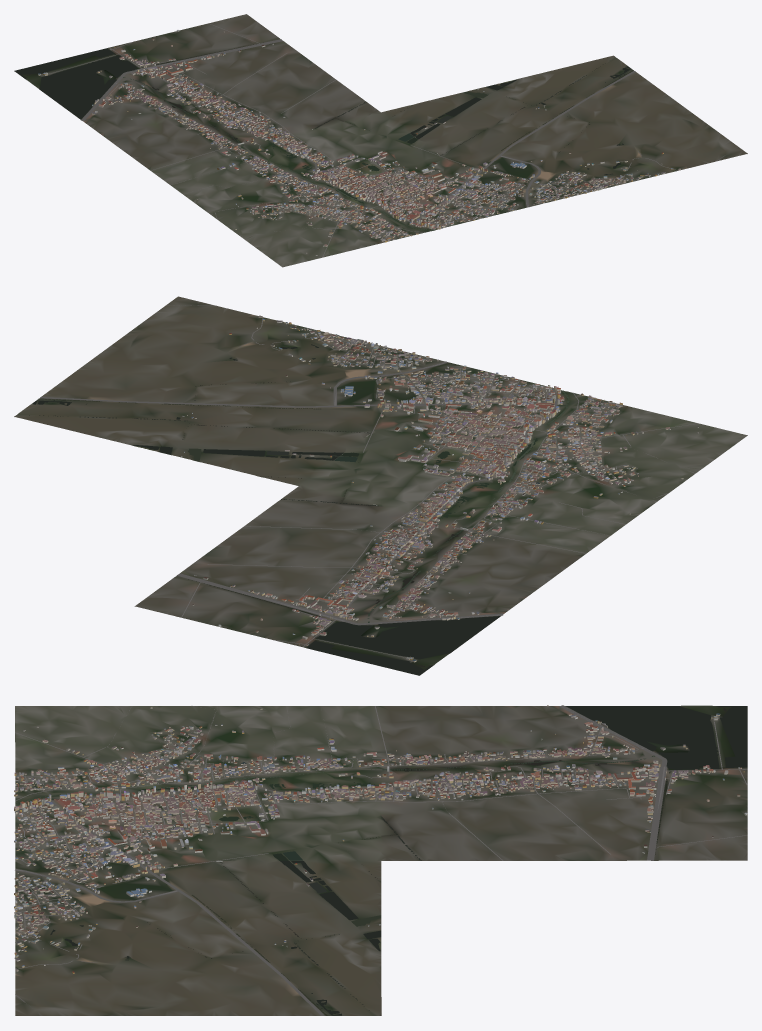
The picture shows the model from 3 angles, top to bottom: view 1: azimuth 30°, elevation 25°; view 2: azimuth 150°, elevation 25°; view 3: azimuth 270°, elevation 25°; orthographic projection. The views are drawn at different scales.
Parts seen in each view (by area): view 1: ground, buildings, water, roads; view 2: ground, buildings, water, roads; view 3: ground, buildings, water, roads.
Part boxes in pixels (box(x1,y1,x2,y2)): ground: box(14, 14, 747, 267); buildings: box(38, 30, 680, 255); water: box(14, 42, 633, 230); roads: box(47, 23, 725, 257); ground: box(14, 296, 747, 675); buildings: box(181, 315, 698, 662); water: box(29, 344, 569, 675); roads: box(40, 305, 698, 657); ground: box(15, 705, 747, 1015); buildings: box(14, 705, 747, 973); water: box(16, 706, 747, 1015); roads: box(15, 705, 747, 1015).
Bounding box in the file's own units: 2816 × 30.59 × 2810.
